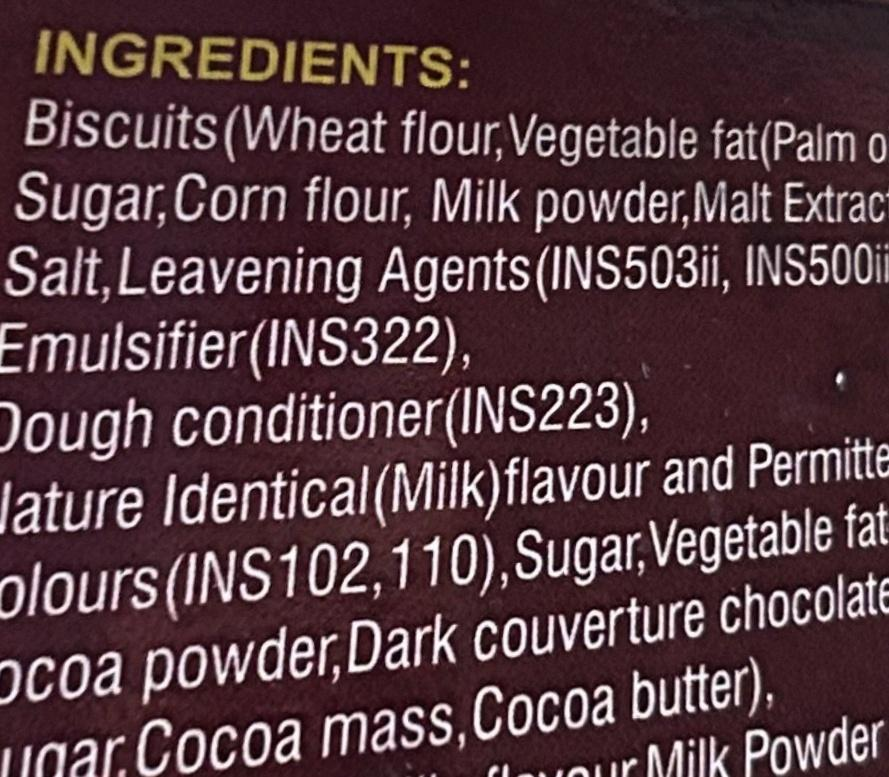ingredients: (16, 20, 889, 777)
